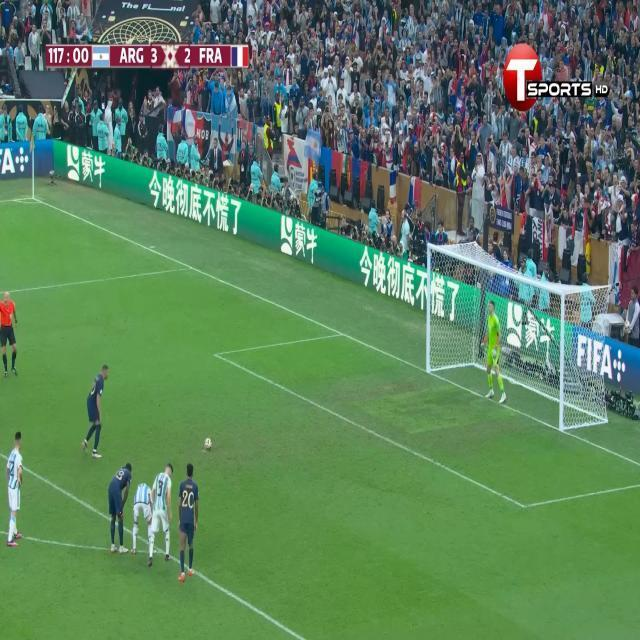ball: (200, 432, 213, 456)
goalkeeper: (482, 299, 509, 409)
player: (81, 348, 110, 470), (151, 459, 180, 580), (123, 479, 156, 578), (100, 455, 132, 552), (5, 423, 27, 541), (184, 463, 204, 582)
referee: (0, 288, 19, 378)
